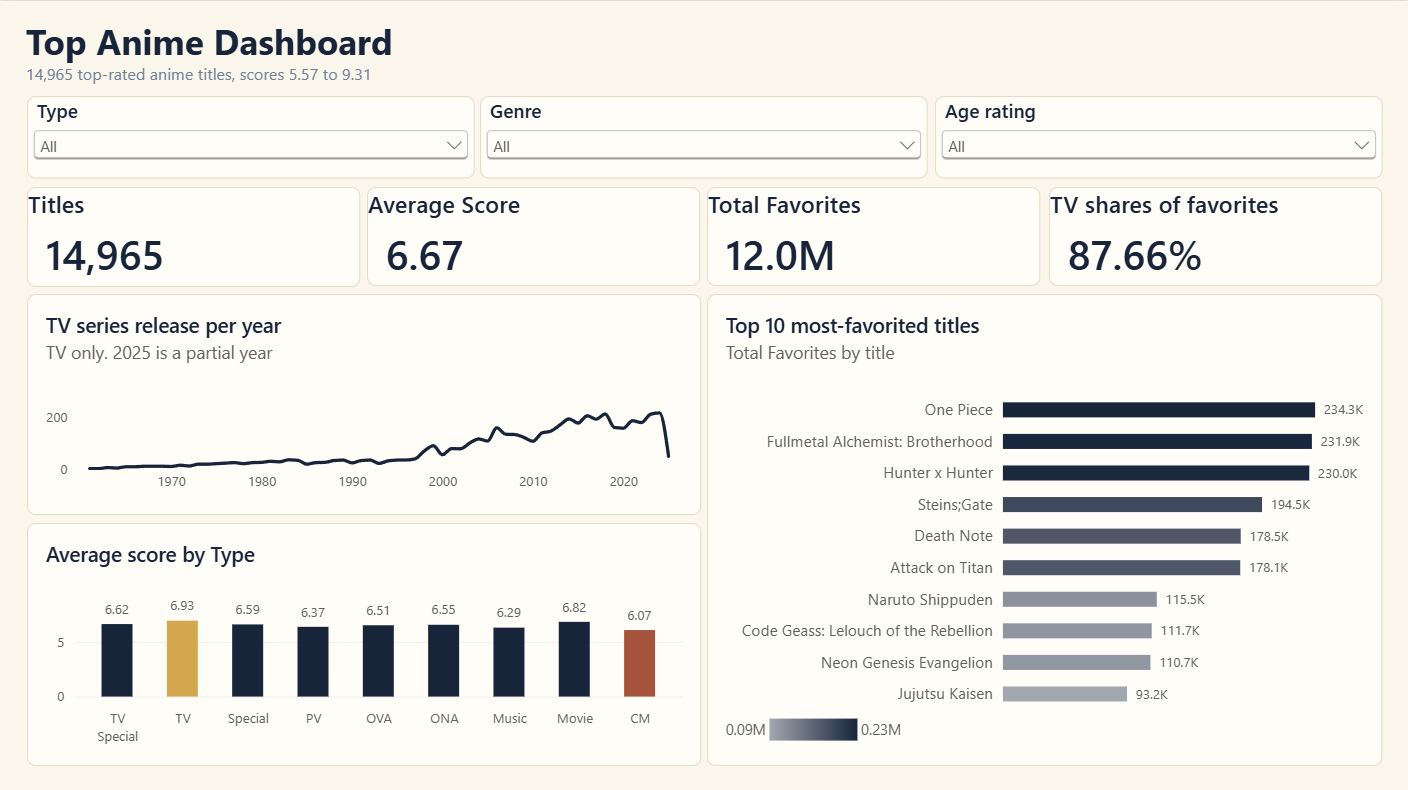

This screenshot's page, from the dashboard's own definition file:
{"tool":"powerbi","page":{"name":"Overview","canvas":[1280,720],"ordinal":0},"visuals":[{"type":"textbox","box":[24,14,700,48],"z":0,"group":"g1"},{"type":"slicer","title":"Type","fields":{"Values":["anime_cleaned.type"]},"box":[24.3,86.6,407,74.9],"z":0},{"type":"textbox","box":[24.2,56.1,900.5,24.2],"z":1000,"group":"g1"},{"type":"slicer","fields":{"Values":["anime_genres.genre"]},"box":[436.7,86.6,407,74.9],"z":1000},{"type":"slicer","title":"Age rating","fields":{"Values":["anime_cleaned.Age_can_read"]},"box":[850.1,86.6,406.6,74.9],"z":2000},{"type":"cardVisual","title":"Titles","fields":{"Data":["_Measure.Total Titles"]},"box":[24.3,169.2,303,90.6],"z":3000},{"type":"cardVisual","title":"Average Score","fields":{"Data":["_Measure.Avg Score"]},"box":[333.6,169.2,303.5,90.5],"z":4000},{"type":"cardVisual","title":"Total Favorites","fields":{"Data":["_Measure.Total Favorites"]},"box":[642.9,169.2,303.5,90.5],"z":5000},{"type":"cardVisual","title":"TV shares of favorites","fields":{"Data":["_Measure.TV Share of Favorites"]},"box":[953.2,169.2,303.5,90.5],"z":6000},{"type":"clusteredColumnChart","title":"Average score by Type","fields":{"Category":["anime_cleaned.type"],"Y":["_Measure.Avg Score"]},"box":[24.2,474.4,613.3,220.8],"z":7000},{"type":"lineChart","title":"TV series release per year","fields":{"Category":["anime_cleaned.year"],"Y":["_Measure.Total Titles"]},"box":[24.2,266.5,613.3,201],"z":8000},{"type":"clusteredBarChart","title":"Top 10 most-favorited titles","fields":{"Category":["anime_cleaned.title"],"Y":["_Measure.Total Favorites"]},"box":[642.9,266.5,613.7,428.9],"z":9000},{"type":"group","id":"g1","title":"Group 1","box":[24,14,900.6,66.2],"z":10000}]}

Visuals, with their boxes in screenshot pixels (x1, y1, x2, y2), scaled from the page's 1280x720 canvas onto the 1408x790 screenshot:
textbox: {"left": 26, "top": 15, "right": 796, "bottom": 68}
"Type" slicer: {"left": 27, "top": 95, "right": 474, "bottom": 177}
textbox: {"left": 27, "top": 62, "right": 1017, "bottom": 88}
slicer - anime_genres.genre: {"left": 480, "top": 95, "right": 928, "bottom": 177}
"Age rating" slicer: {"left": 935, "top": 95, "right": 1382, "bottom": 177}
"Titles" cardVisual: {"left": 27, "top": 186, "right": 360, "bottom": 285}
"Average Score" cardVisual: {"left": 367, "top": 186, "right": 701, "bottom": 285}
"Total Favorites" cardVisual: {"left": 707, "top": 186, "right": 1041, "bottom": 285}
"TV shares of favorites" cardVisual: {"left": 1049, "top": 186, "right": 1382, "bottom": 285}
"Average score by Type" clusteredColumnChart: {"left": 27, "top": 521, "right": 701, "bottom": 763}
"TV series release per year" lineChart: {"left": 27, "top": 292, "right": 701, "bottom": 513}
"Top 10 most-favorited titles" clusteredBarChart: {"left": 707, "top": 292, "right": 1382, "bottom": 763}
"Group 1" group: {"left": 26, "top": 15, "right": 1017, "bottom": 88}
